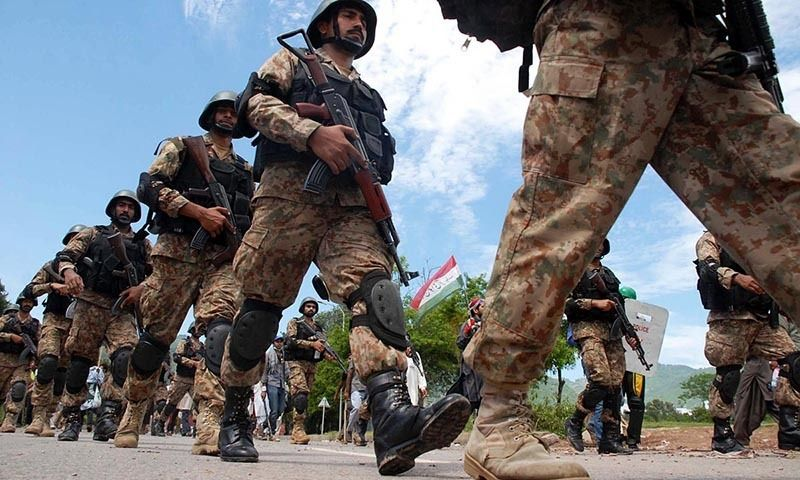gun: (259, 19, 421, 286), (176, 112, 250, 262), (584, 267, 678, 381), (97, 217, 150, 324), (283, 309, 345, 369)
uniform: (457, 16, 782, 406), (251, 39, 414, 438), (142, 130, 248, 422), (676, 216, 790, 441), (66, 211, 142, 419), (560, 256, 636, 434), (23, 245, 75, 424), (286, 308, 327, 438), (2, 295, 40, 425)
